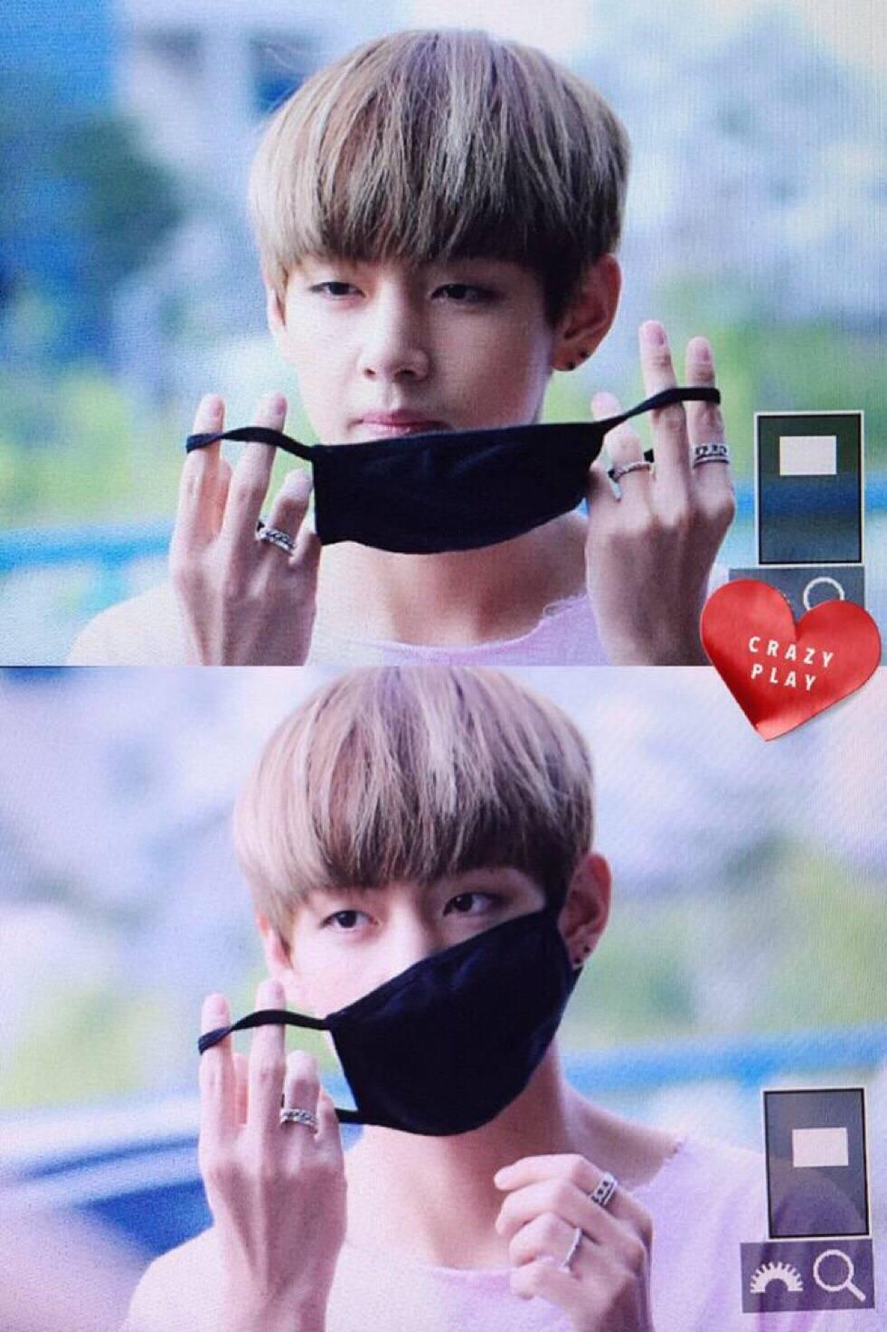NONE: (273, 255, 561, 525)
WRONG: (286, 837, 563, 1106)
